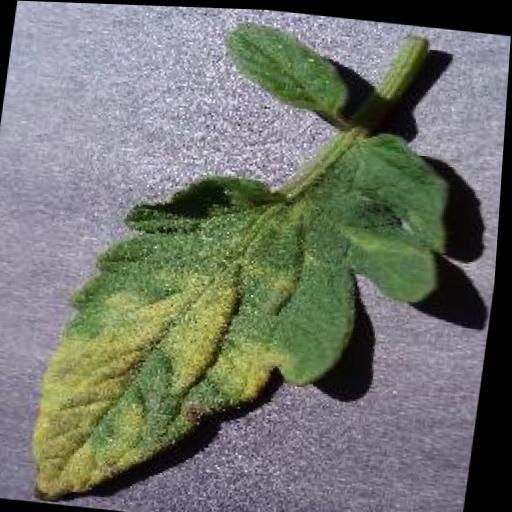Leaf Mold: (30, 106, 465, 512)
